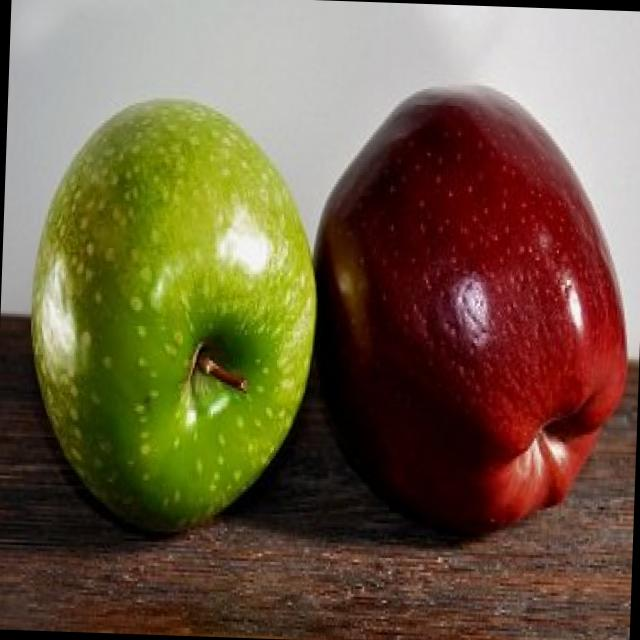apple: (296, 74, 639, 542)
